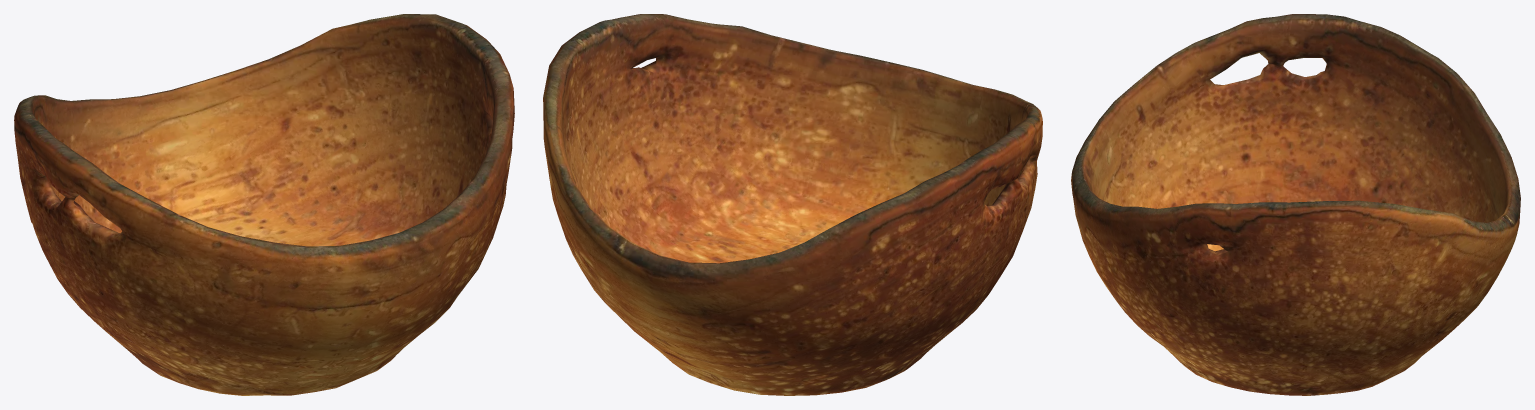
The model's file is wooden_bowl_02.glb.
3 renders of one model, left to right at view 1: azimuth 30°, elevation 25°; view 2: azimuth 150°, elevation 25°; view 3: azimuth 270°, elevation 25°, orthographic. The views are drawn at different scales.
Parts seen in each view (by area): view 1: wooden_bowl_02; view 2: wooden_bowl_02; view 3: wooden_bowl_02.
Boxes of the visible parts, box(x1,y1,x2,y2) form: wooden_bowl_02: box(14, 14, 514, 395); wooden_bowl_02: box(543, 14, 1042, 395); wooden_bowl_02: box(1071, 14, 1520, 395).
Size of the model in its own units: 0.1307 by 0.0731 by 0.1245.
1 material, 1 textured.
